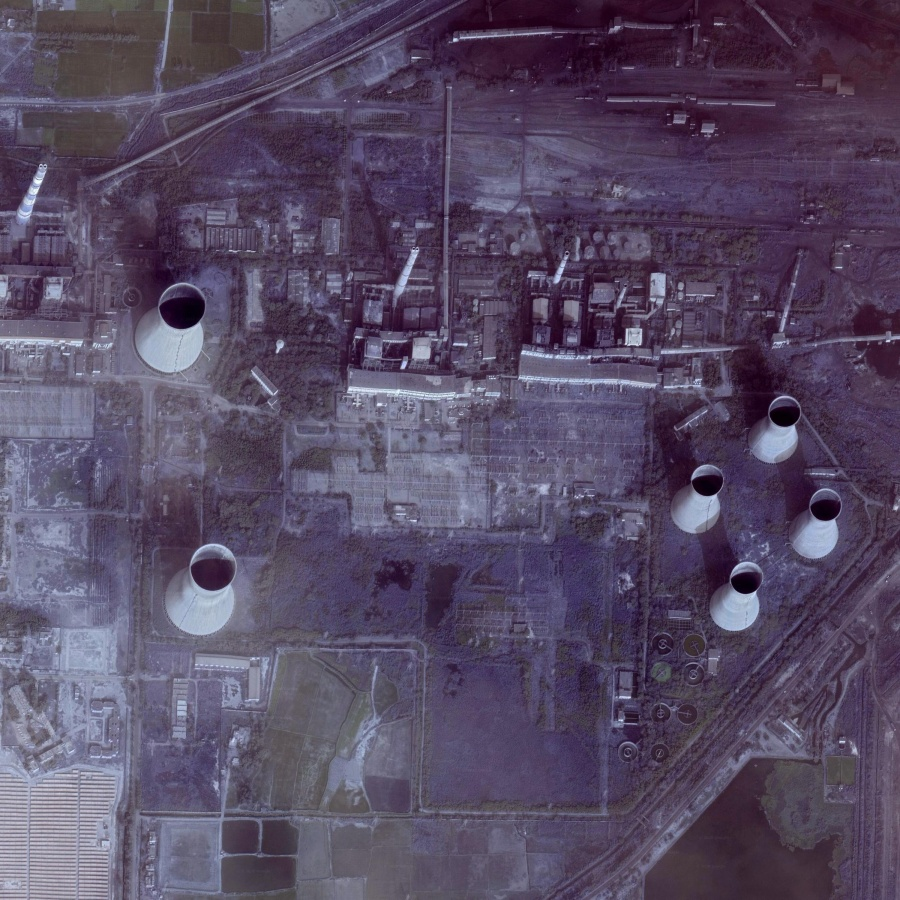PowerPlant: (347, 196, 842, 633), (145, 531, 389, 805)
